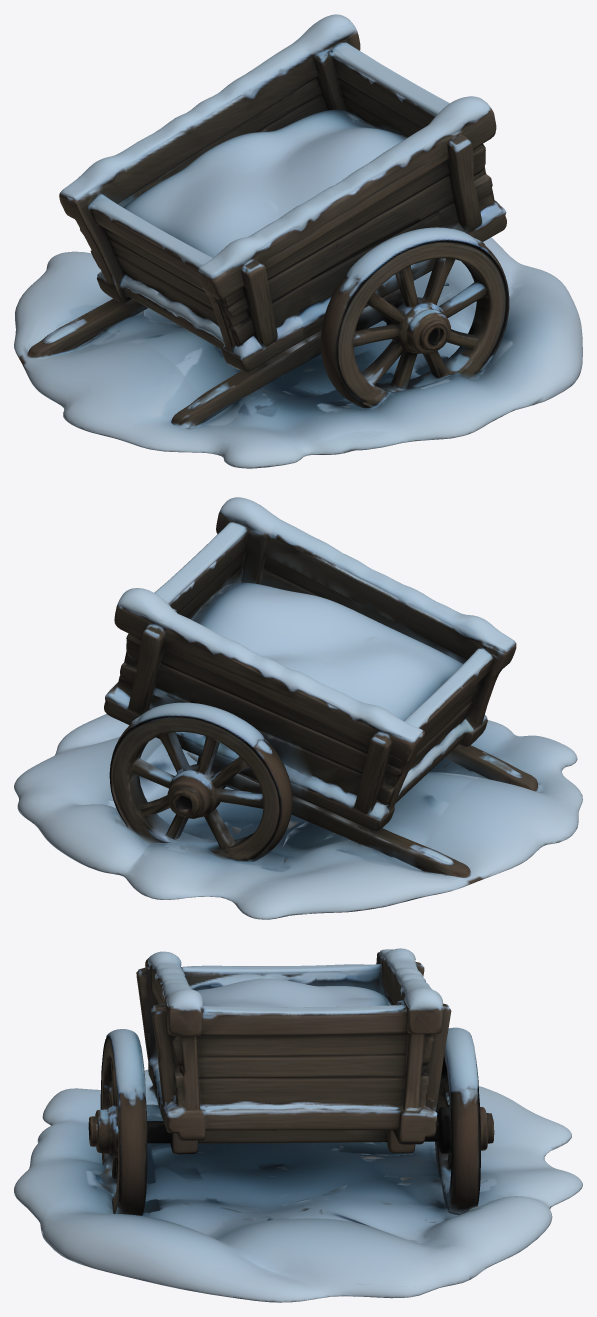
Rendered from snowcart.glb.
The picture shows the model from 3 angles, top to bottom: view 1: azimuth 30°, elevation 25°; view 2: azimuth 150°, elevation 25°; view 3: azimuth 270°, elevation 25°; orthographic projection. The views are drawn at different scales.
Visible parts, largest first — view 1: node_0; view 2: node_0; view 3: node_0.
Part boxes in pixels (bbox=[...]): node_0: bbox=[14, 14, 582, 468]; node_0: bbox=[14, 497, 582, 919]; node_0: bbox=[14, 948, 582, 1302].
Bounding box in the file's own units: 1.04 × 0.5131 × 1.02.
1 material, 1 textured.
